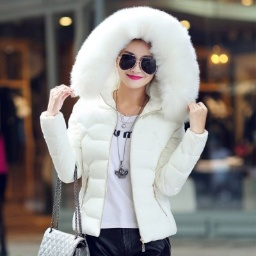face: (109, 35, 160, 105)
